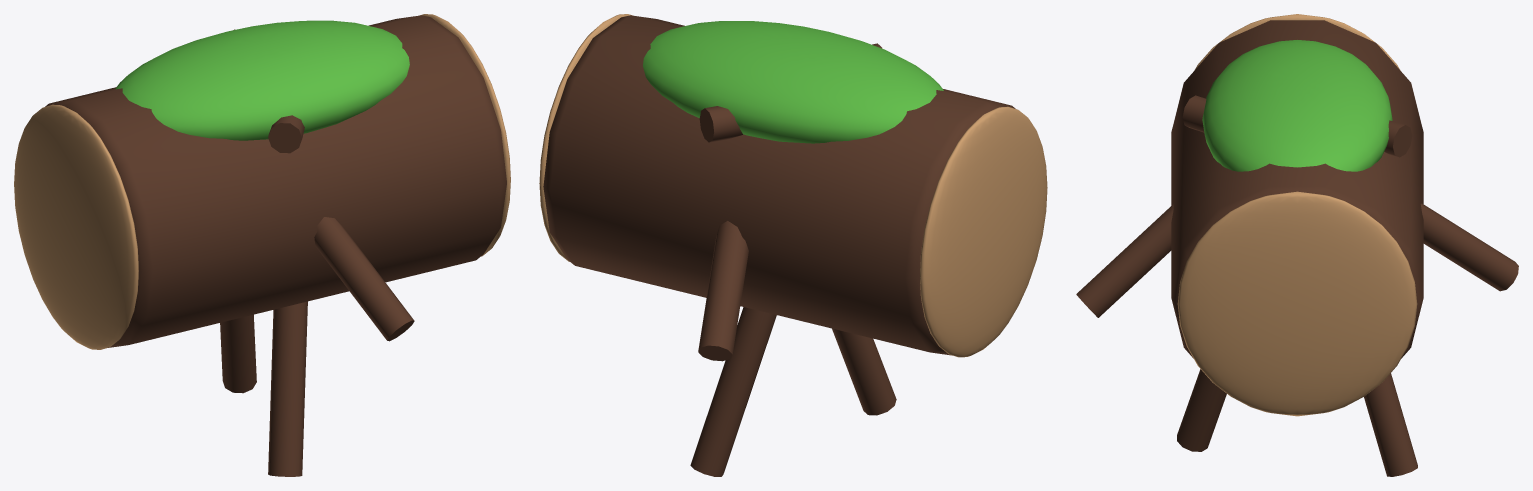
File: akar-ayun.glb
3 views of the same model, side by side, from view 1: azimuth 30°, elevation 25°; view 2: azimuth 150°, elevation 25°; view 3: azimuth 270°, elevation 25° (orthographic). The views are drawn at different scales.
Parts seen in each view (by area): view 1: Cylinder, Sphere.002, Sphere, tube.004, tube.003, tube.005, Sphere.001, tube.002; view 2: Cylinder, Sphere.002, Sphere, tube.005, tube, tube.004, Sphere.001, tube.001; view 3: Sphere.001, Cylinder, Sphere.002, tube.003, tube, tube.005, tube.004, Sphere, tube.001, tube.002.
Boxes of the visible parts, x1=… form: Cylinder: x1=45, y1=15, x2=506, y2=347; Sphere.002: x1=115, y1=20, x2=409, y2=140; Sphere: x1=14, y1=104, x2=138, y2=349; tube.004: x1=268, y1=301, x2=307, y2=476; tube.003: x1=314, y1=217, x2=414, y2=341; tube.005: x1=220, y1=314, x2=256, y2=393; Sphere.001: x1=419, y1=14, x2=510, y2=256; tube.002: x1=268, y1=115, x2=304, y2=153; Cylinder: x1=543, y1=15, x2=1015, y2=355; Sphere.002: x1=643, y1=21, x2=943, y2=143; Sphere: x1=920, y1=106, x2=1047, y2=357; tube.005: x1=690, y1=307, x2=776, y2=476; tube: x1=698, y1=221, x2=748, y2=361; tube.004: x1=832, y1=328, x2=896, y2=415; Sphere.001: x1=539, y1=14, x2=632, y2=261; tube.001: x1=699, y1=106, x2=742, y2=142; Sphere.001: x1=1177, y1=191, x2=1417, y2=416; Cylinder: x1=1171, y1=20, x2=1423, y2=358; Sphere.002: x1=1202, y1=40, x2=1392, y2=171; tube.003: x1=1076, y1=204, x2=1173, y2=317; tube: x1=1420, y1=203, x2=1518, y2=291; tube.005: x1=1364, y1=373, x2=1417, y2=476; tube.004: x1=1177, y1=369, x2=1226, y2=451; Sphere: x1=1194, y1=14, x2=1400, y2=70; tube.001: x1=1384, y1=120, x2=1412, y2=157; tube.002: x1=1182, y1=95, x2=1206, y2=132.
Bounding box in the file's own units: 3.21 × 3 × 3.16.
